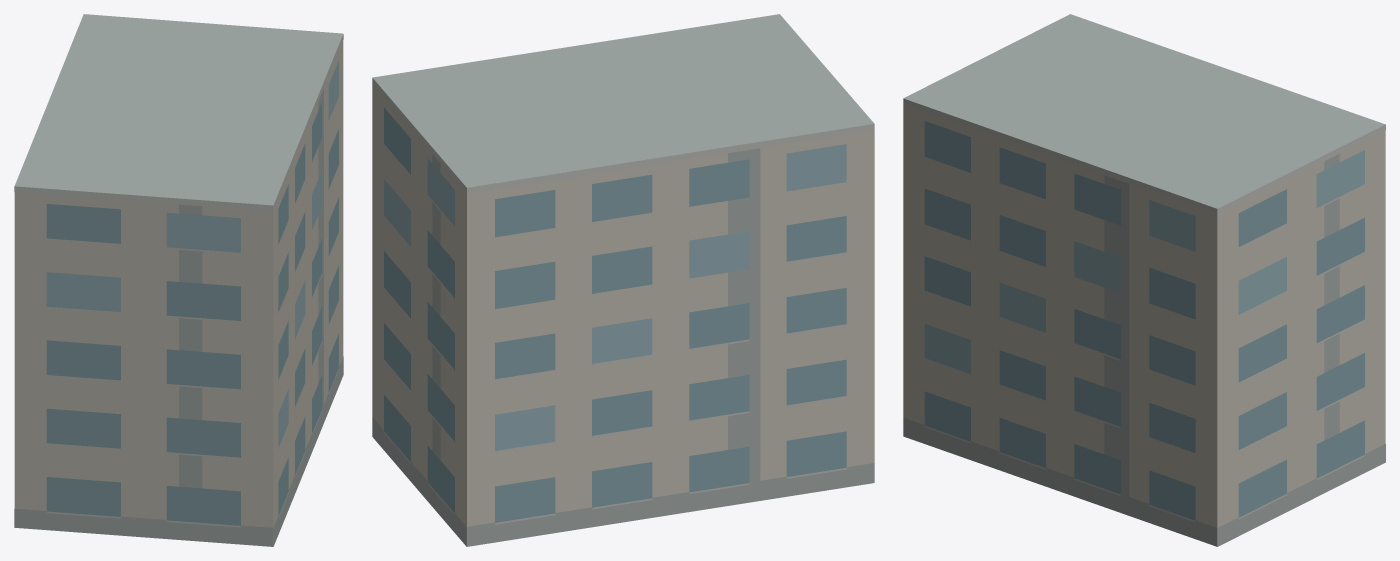
File: survey-upis-32893469.glb
3 renders of one model, left to right at view 1: azimuth 30°, elevation 25°; view 2: azimuth 150°, elevation 25°; view 3: azimuth 270°, elevation 25°, orthographic. The views are drawn at different scales.
Visible parts, largest first — view 1: survey-upis-32893469.tmp; view 2: survey-upis-32893469.tmp; view 3: survey-upis-32893469.tmp.
Part boxes in pixels (x1,y1,x2,y2): survey-upis-32893469.tmp: (14, 14, 343, 546); survey-upis-32893469.tmp: (372, 14, 874, 546); survey-upis-32893469.tmp: (903, 14, 1385, 546).
Size of the model in its own units: 16.94 by 13.7 by 17.73.
